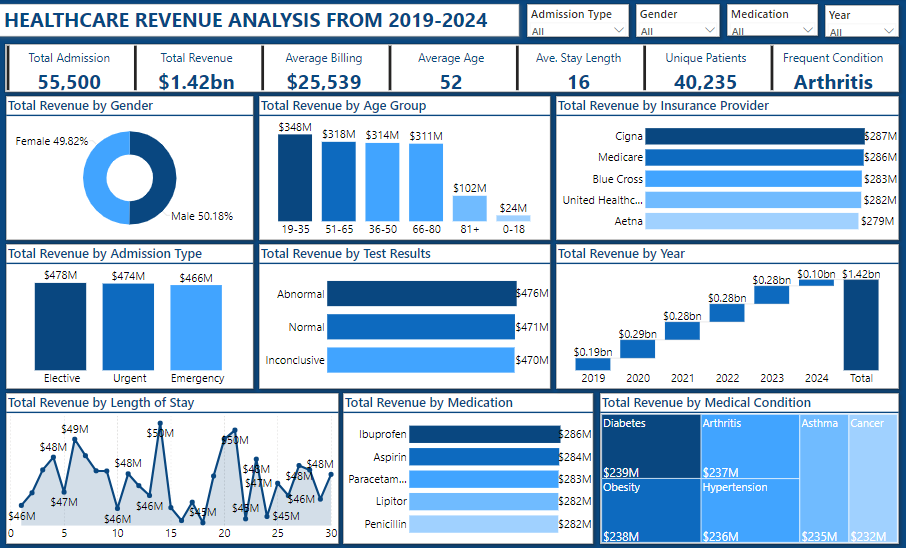

This screenshot's page, from the dashboard's own definition file:
{"tool":"powerbi","page":{"name":"Revenue Dashboard","canvas":[3300,2000],"ordinal":1},"visuals":[{"type":"textbox","box":[0,22.9,1894.9,117.8],"z":0},{"type":"cardVisual","fields":{"Data":["All Measures.Total Patients","All Measures.Total Billing","All Measures.Average Billing","All Measures.Average Age","All Measures.Ave. Stay Length","All Measures.No of Patients","All Measures.Frequent Condition"]},"box":[25.5,167.3,3250.9,174.5],"z":1000},{"type":"slicer","fields":{"Values":["healthcare_dataset.Admission Type"]},"box":[1923.6,21.8,370.9,120],"z":2000},{"type":"slicer","fields":{"Values":["healthcare_dataset.Gender"]},"box":[2320,21.8,305.5,120],"z":3000},{"type":"slicer","fields":{"Values":["healthcare_dataset.Medication"]},"box":[2650.9,21.8,330.9,116.4],"z":4000},{"type":"donutChart","title":"Total Revenue by Gender","fields":{"Category":["healthcare_dataset.Gender"],"Y":["All Measures.Total Revenue"]},"box":[29.1,356.4,900,523.6],"z":5000},{"type":"columnChart","title":"Total Revenue by Age Group","fields":{"Category":["healthcare_dataset.Age Group"],"Y":["All Measures.Total Revenue"]},"box":[949.1,356.4,1060,523.6],"z":6000},{"type":"clusteredBarChart","title":"Total Revenue by Insurance Provider","fields":{"Category":["healthcare_dataset.Insurance Provider"],"Y":["All Measures.Total Revenue"]},"box":[2029.1,356.4,1247.3,523.6],"z":7000},{"type":"columnChart","title":"Total Revenue by Admission Type","fields":{"Category":["healthcare_dataset.Admission Type"],"Y":["All Measures.Total Revenue"]},"box":[29.1,894.5,900,527.3],"z":8000},{"type":"treemap","title":"Total Revenue by Medical Condition","fields":{"Group":["healthcare_dataset.Medical Condition"],"Values":["All Measures.Total Revenue"]},"box":[2189.1,1436.4,1087.3,549.1],"z":9000},{"type":"clusteredBarChart","title":"Total Revenue by Test Results","fields":{"Category":["healthcare_dataset.Test Results"],"Y":["All Measures.Total Revenue"]},"box":[949.1,894.5,1060,527.3],"z":10000},{"type":"clusteredBarChart","title":"Total Revenue by Medication","fields":{"Y":["All Measures.Total Revenue"],"Category":["healthcare_dataset.Medication"]},"box":[1254.5,1436.4,910,549.1],"z":11000},{"type":"waterfallChart","title":"Total Revenue  by Year","fields":{"Category":["healthcare_dataset.Date of Admission.Variation.Date Hierarchy.Year"],"Y":["All Measures.Total Revenue"]},"box":[2029.1,894.5,1247.3,527.3],"z":12000},{"type":"lineChart","title":"Total Revenue by Length of Stay","fields":{"Category":["healthcare_dataset.Length of Stay"],"Y":["All Measures.Total Revenue"]},"box":[29.1,1436.4,1210,549.1],"z":13000},{"type":"slicer","fields":{"Values":["healthcare_dataset.Date of Admission.Variation.Date Hierarchy.Year"]},"box":[3007.3,25.5,269.1,116.4],"z":13001}]}

Visuals, with their boxes in screenshot pixels (x1, y1, x2, y2), scaled from the page's 3300x2000 canvas onto the 906x548 screenshot:
textbox: x1=0, y1=6, x2=520, y2=39
cardVisual - All Measures.Total Patients x All Measures.Total Billing: x1=7, y1=46, x2=900, y2=94
slicer - healthcare_dataset.Admission Type: x1=528, y1=6, x2=630, y2=39
slicer - healthcare_dataset.Gender: x1=637, y1=6, x2=721, y2=39
slicer - healthcare_dataset.Medication: x1=728, y1=6, x2=819, y2=38
"Total Revenue by Gender" donutChart: x1=8, y1=98, x2=255, y2=241
"Total Revenue by Age Group" columnChart: x1=261, y1=98, x2=552, y2=241
"Total Revenue by Insurance Provider" clusteredBarChart: x1=557, y1=98, x2=900, y2=241
"Total Revenue by Admission Type" columnChart: x1=8, y1=245, x2=255, y2=390
"Total Revenue by Medical Condition" treemap: x1=601, y1=394, x2=900, y2=544
"Total Revenue by Test Results" clusteredBarChart: x1=261, y1=245, x2=552, y2=390
"Total Revenue by Medication" clusteredBarChart: x1=344, y1=394, x2=594, y2=544
"Total Revenue  by Year" waterfallChart: x1=557, y1=245, x2=900, y2=390
"Total Revenue by Length of Stay" lineChart: x1=8, y1=394, x2=340, y2=544
slicer - healthcare_dataset.Date of Admission.Variation.Date Hierarchy.Year: x1=826, y1=7, x2=900, y2=39
